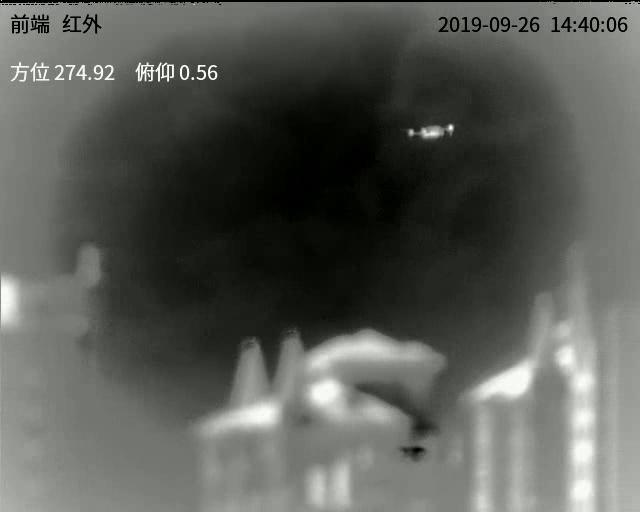DRONE: (407, 123, 455, 140)
